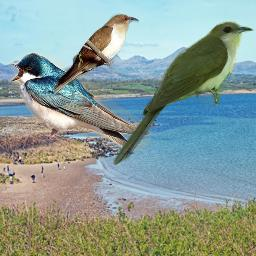Cuckoo: (113, 21, 254, 167), (54, 13, 139, 95)
Swallow: (8, 51, 151, 151)
